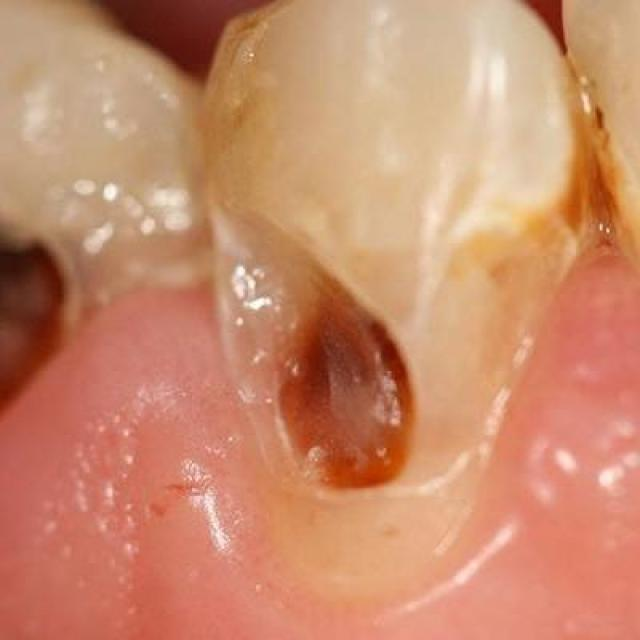Cavity: (216, 202, 416, 498), (0, 222, 64, 413)
Tooth: (206, 2, 595, 590), (0, 0, 213, 416)
